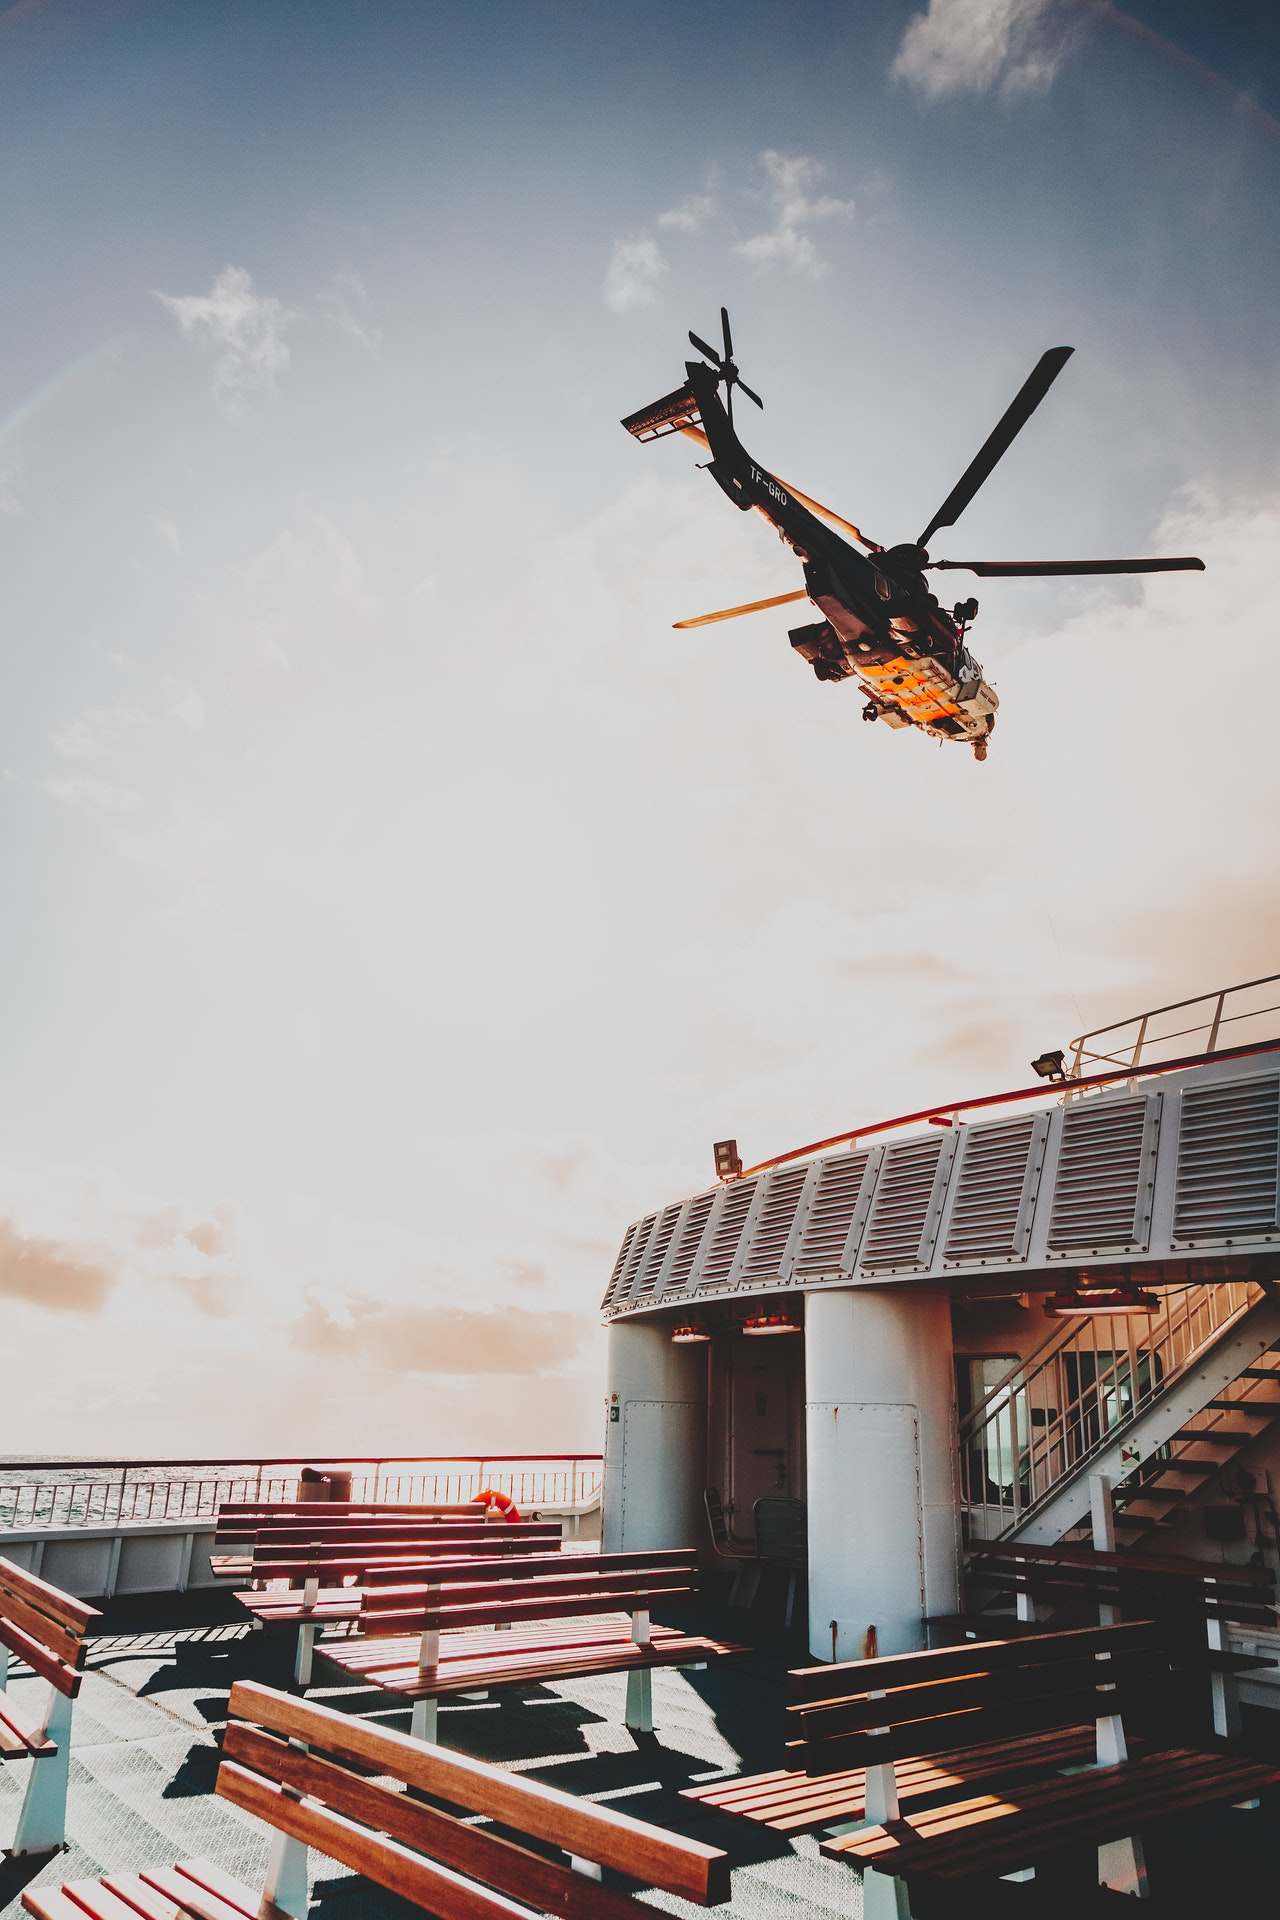heli: (614, 306, 1201, 761)
